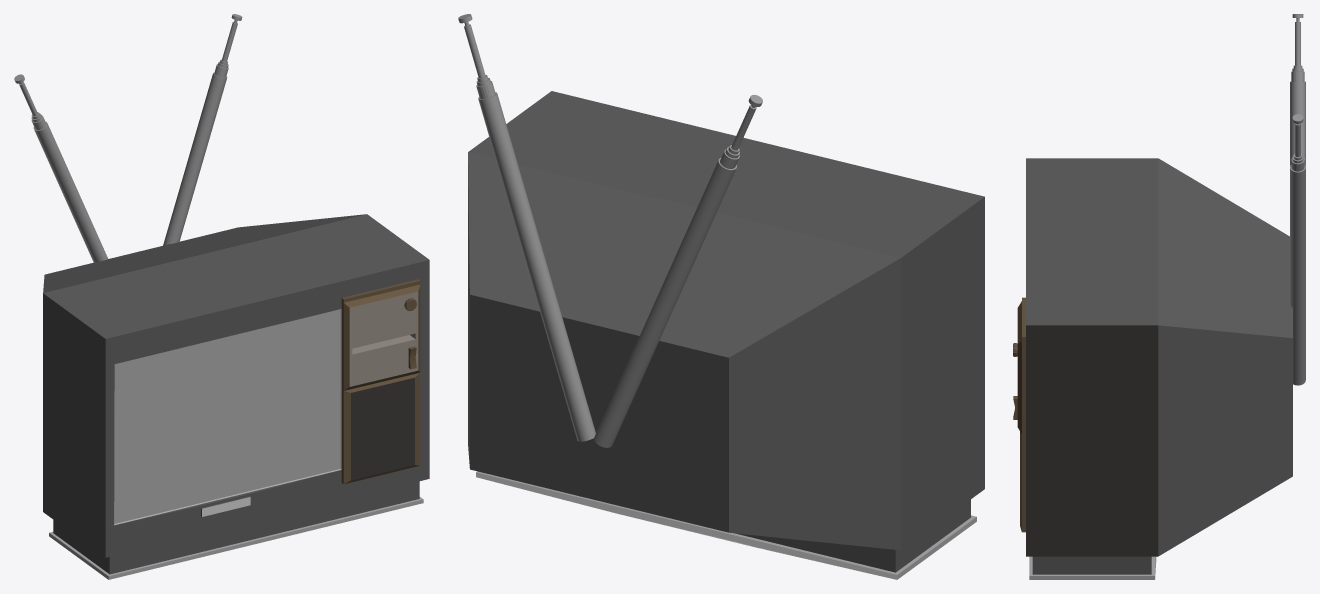
The picture shows the model from 3 angles, left to right: view 1: azimuth 30°, elevation 25°; view 2: azimuth 150°, elevation 25°; view 3: azimuth 270°, elevation 25°; orthographic projection. The views are drawn at different scales.
Parts seen in each view (by area): view 1: Tv; view 2: Tv; view 3: Tv.
Boxes of the visible parts, bbox=[...] form: Tv: bbox=[14, 14, 429, 579]; Tv: bbox=[458, 14, 984, 579]; Tv: bbox=[1013, 14, 1305, 579].
Size of the model in its own units: 0.0667 by 0.0807 by 0.0494.
